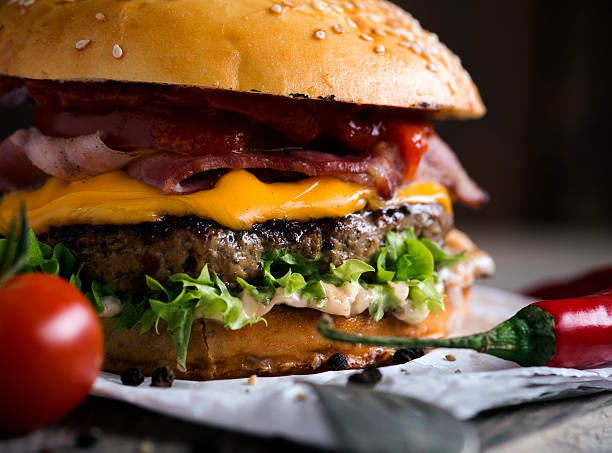hamburger: (7, 1, 502, 385)
